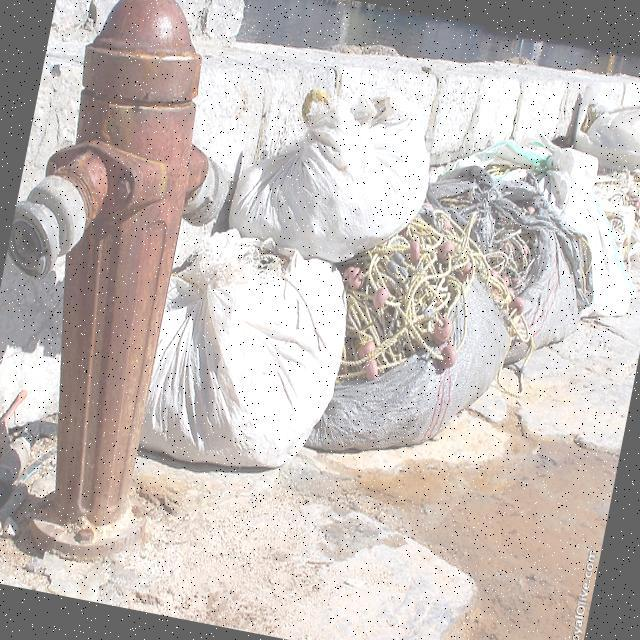fire_hydrant: (0, 0, 268, 578)
